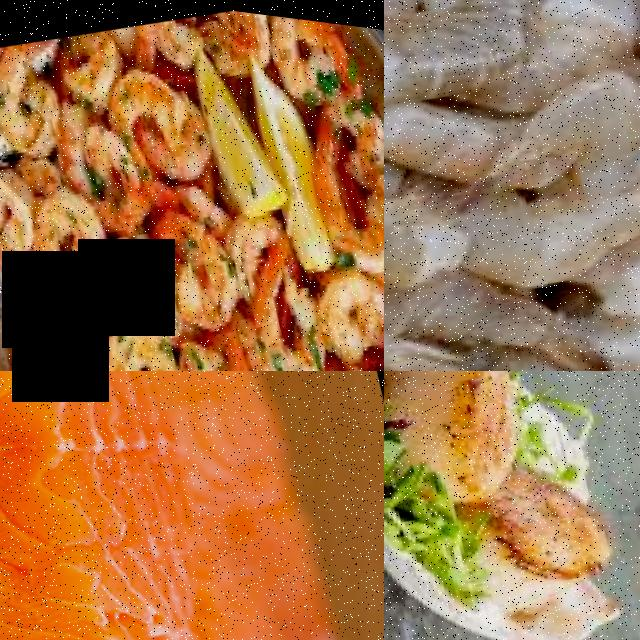lemon: (191, 66, 295, 221)
salmon: (0, 371, 291, 640)
sea scallops: (468, 468, 629, 606), (384, 371, 536, 467)
shrimp: (447, 117, 640, 316), (384, 0, 544, 132), (384, 133, 475, 313), (449, 337, 597, 371)
spinach: (0, 267, 108, 371), (24, 175, 118, 292), (0, 31, 77, 167), (307, 240, 384, 361), (88, 300, 198, 371), (165, 318, 273, 371)
